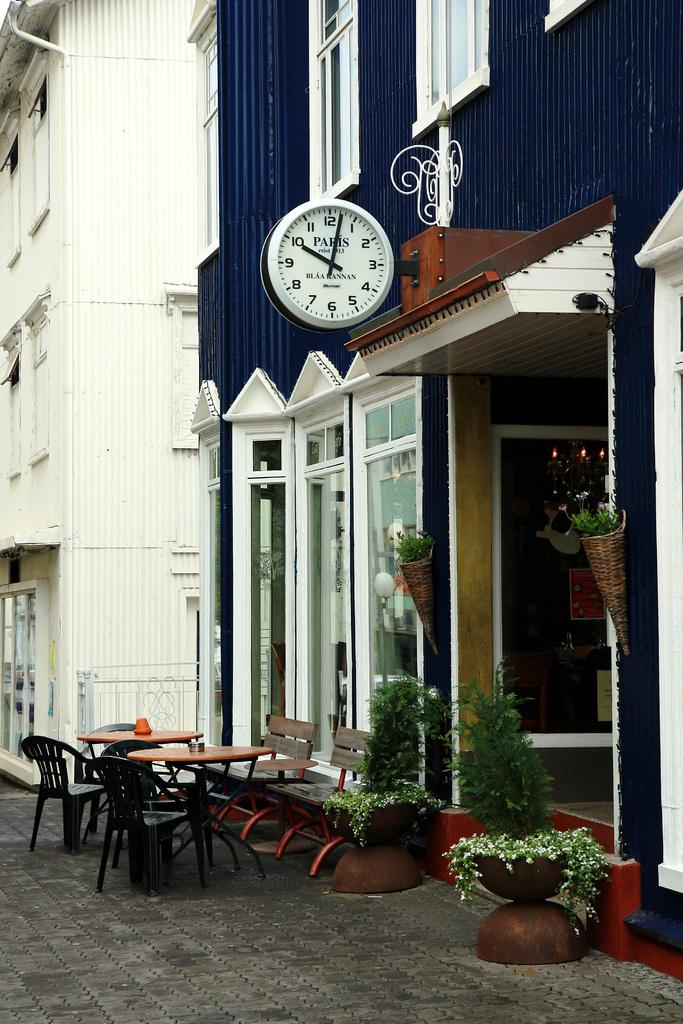Chair: (266, 725, 376, 876), (94, 754, 206, 895), (205, 713, 317, 841), (20, 734, 108, 854)
